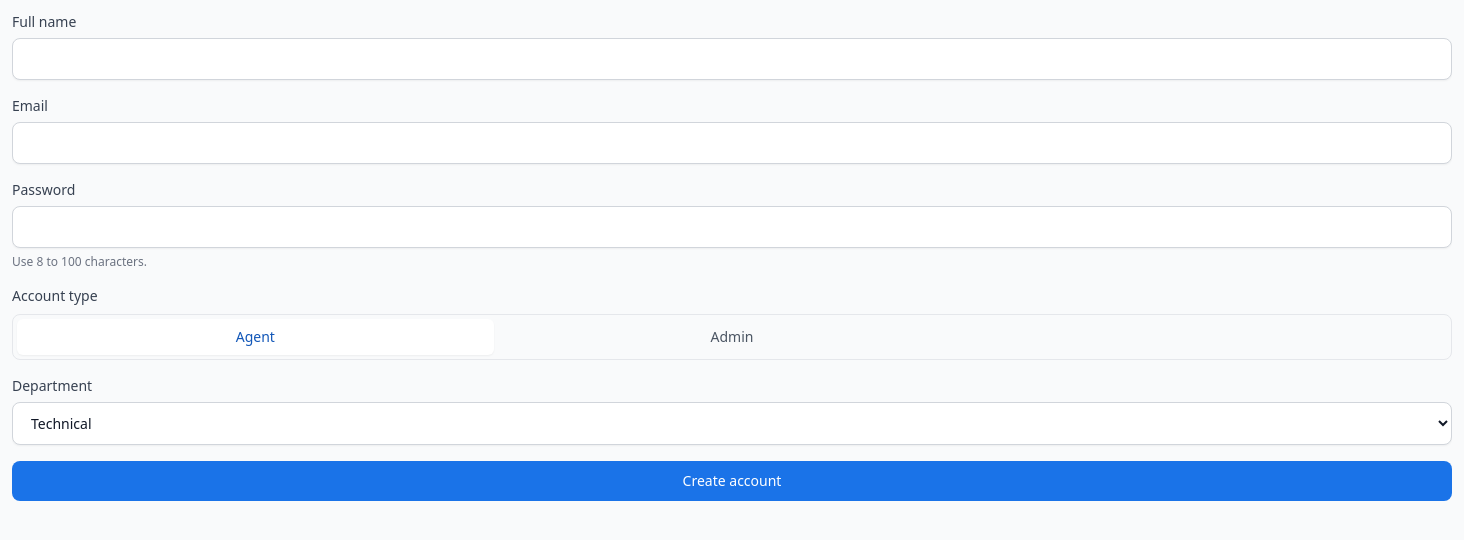
Test case: CreateUserForm › shows duplicate email errors under the email field
In the field labelled "Full name": (732, 59) left=12, top=38, right=1452, bottom=80, type "Riley Agent"
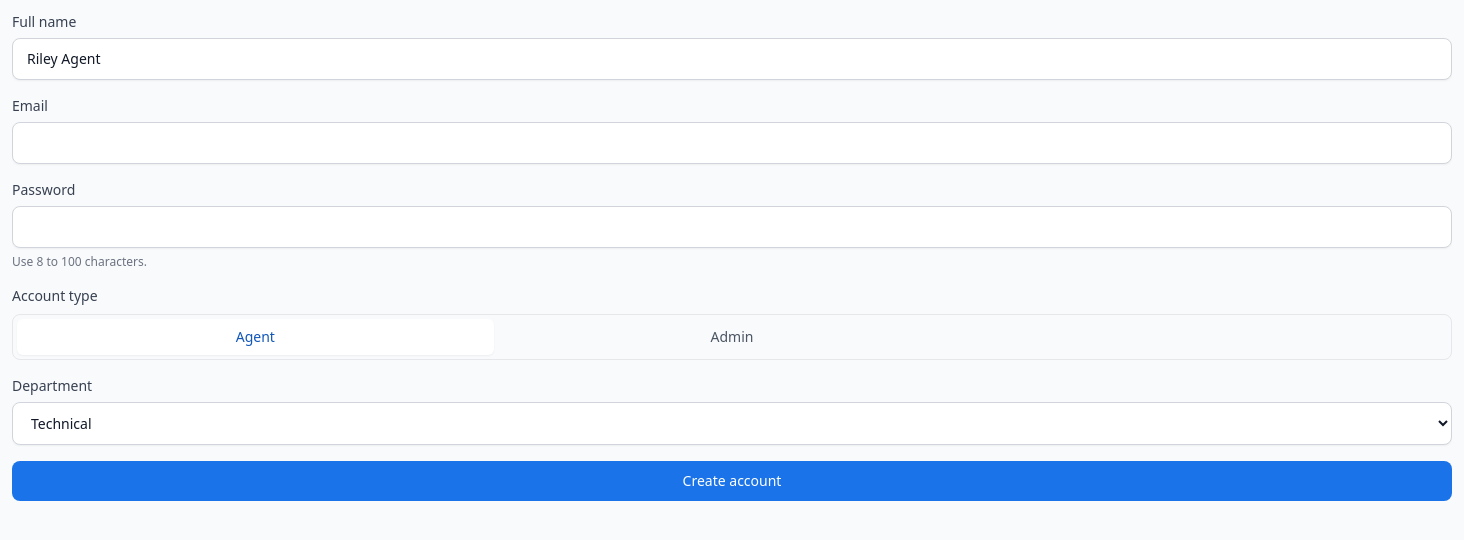
In the field labelled "Email": (732, 143) left=12, top=122, right=1452, bottom=164, type "riley@example.com"
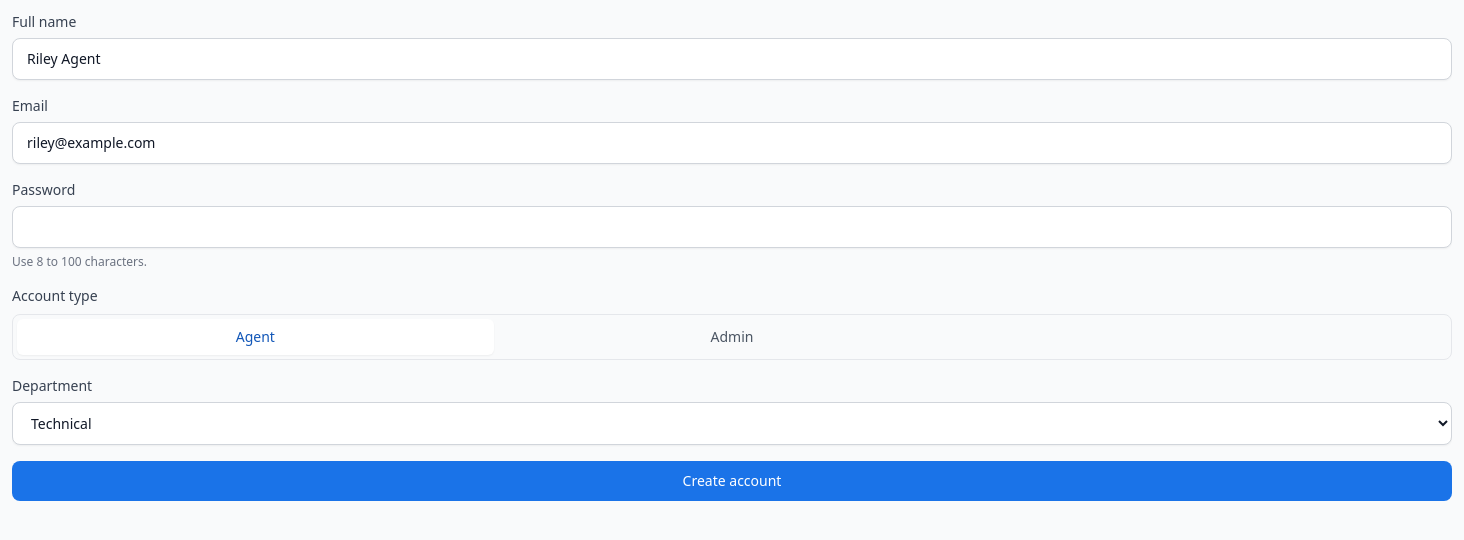
In the password field labelled "Password": (732, 227) left=12, top=206, right=1452, bottom=248, type "Password123"
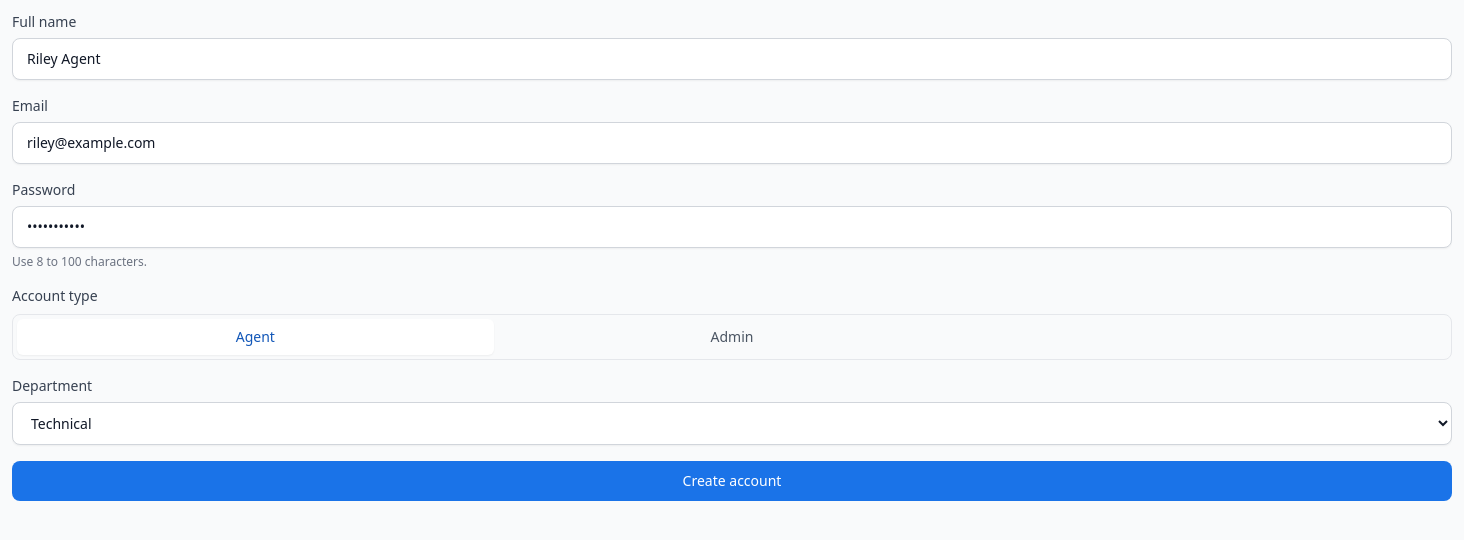
Click the button "Create account": (732, 481) left=12, top=461, right=1452, bottom=501
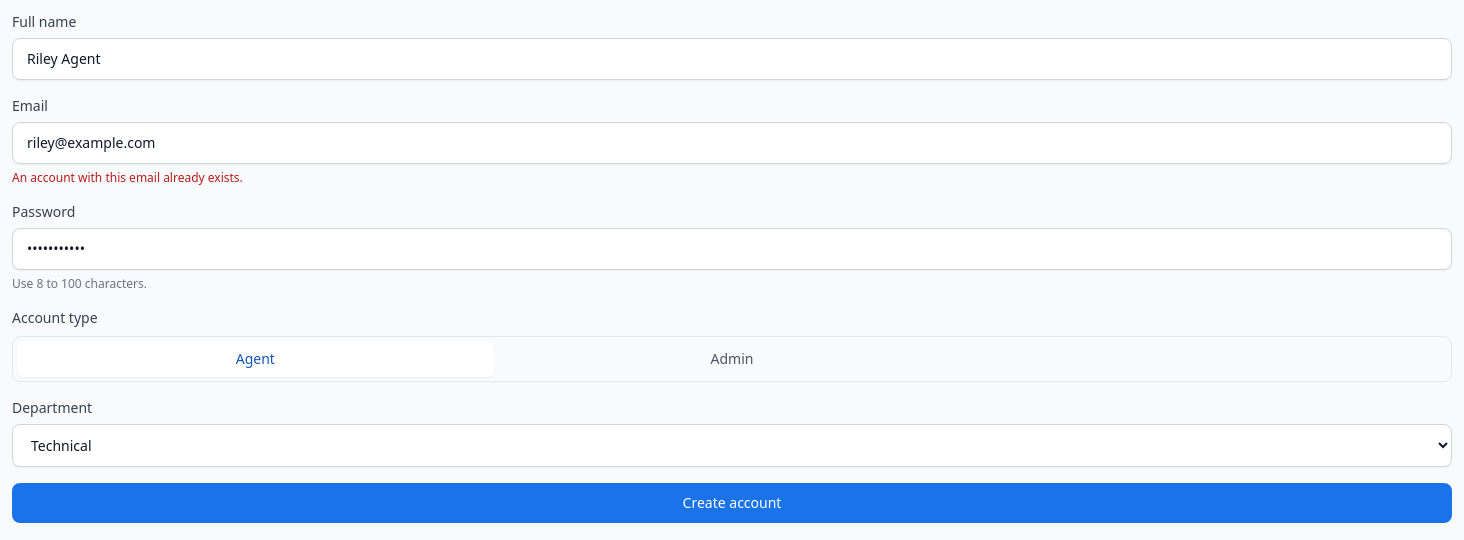
Check: the text "An account with this email already exists." is shown, box left=12, top=169, right=243, bottom=186
